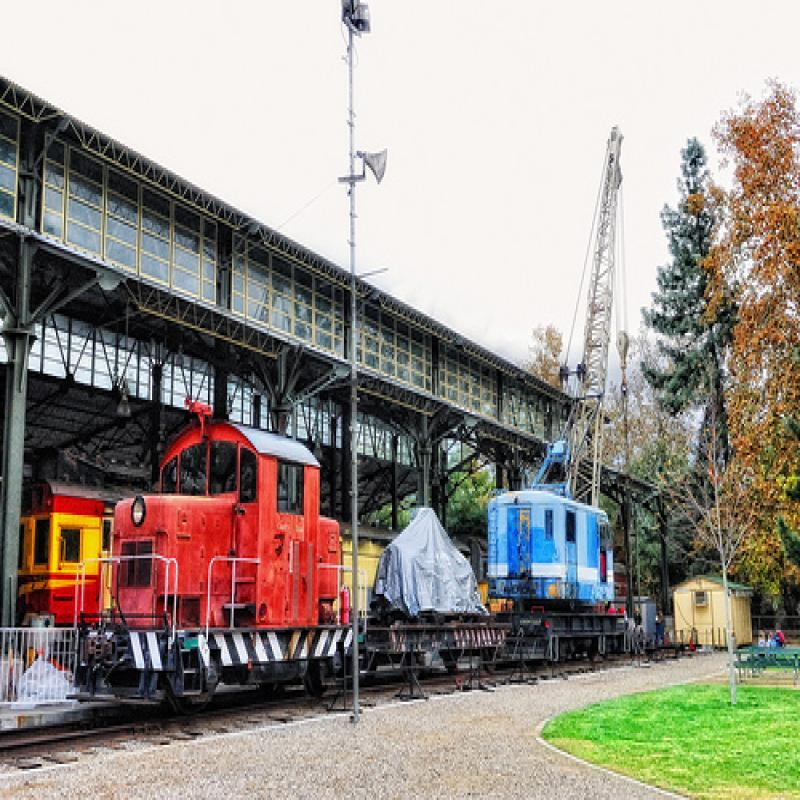train: (81, 131, 628, 713), (25, 480, 489, 660)
